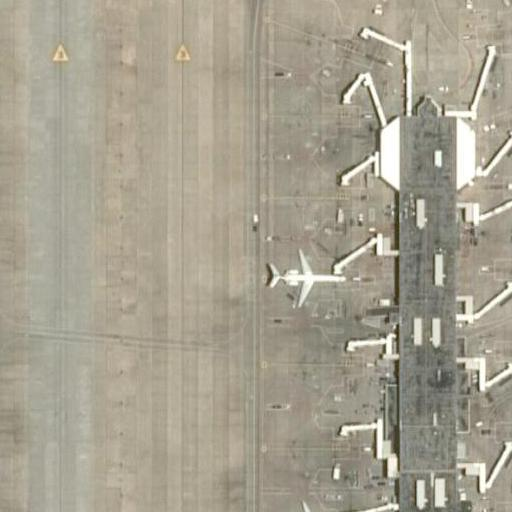Aircraft: (259, 250, 350, 308), (266, 500, 352, 512)
